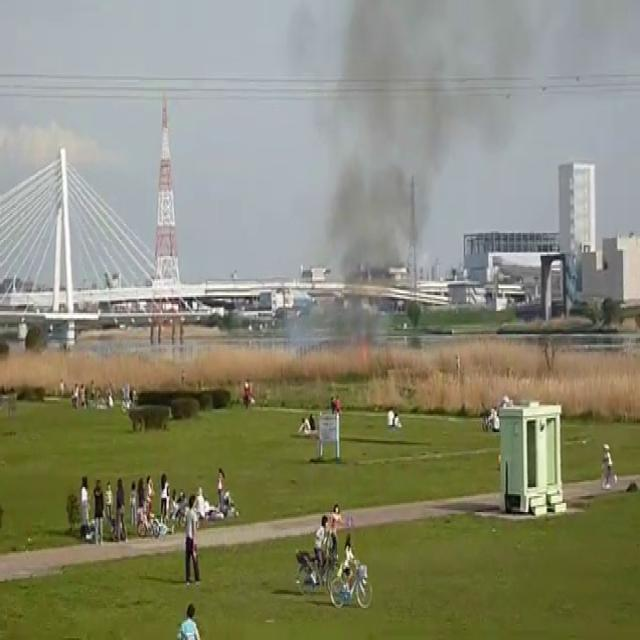Smoke: (294, 0, 640, 272)
